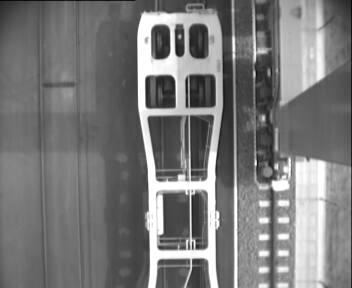twist_lock_2: (147, 20, 211, 63)
